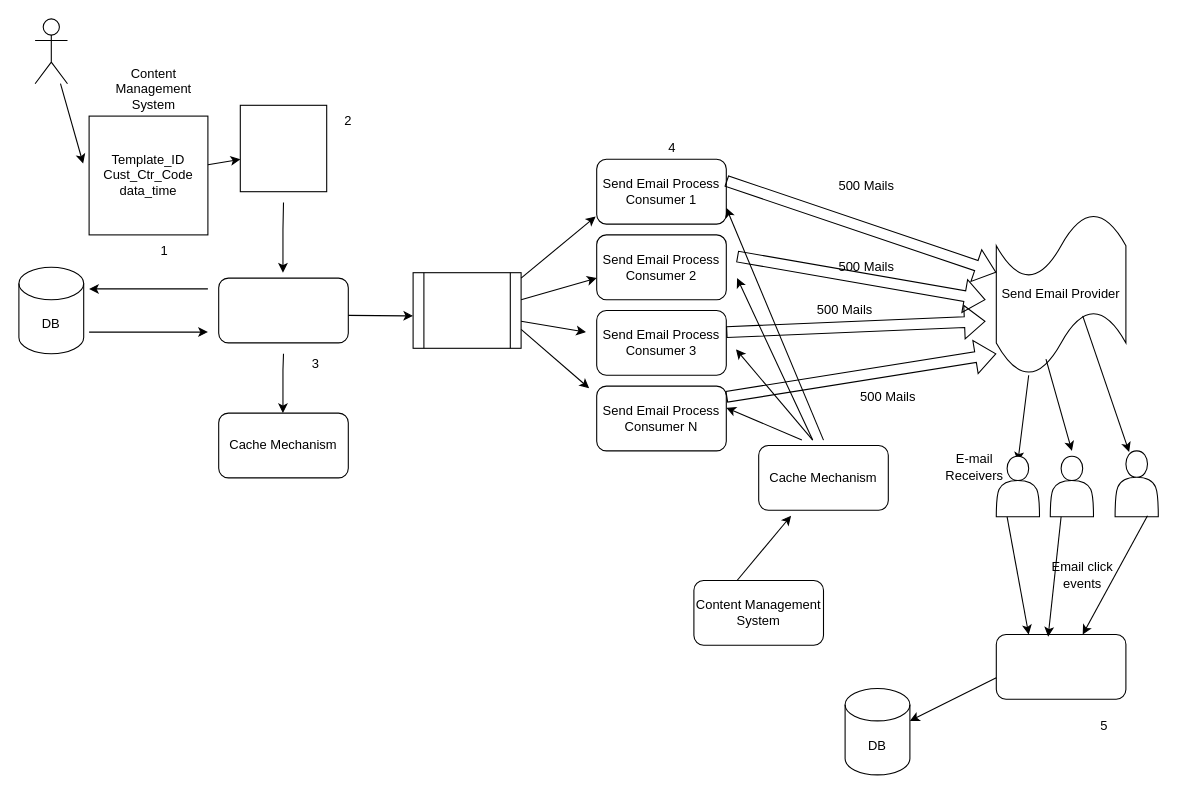
Image size: 1177x794. Some labels were removed from this diagram. The shapes that lost their labels are listed below. From the top down, each one's centre as x and y in pixels, then its label:
the point at 51,51: Actor
the point at 283,148: Schedular
the point at 283,310: DbPullProducer Service (Applying Pagination)
the point at 466,310: Message Queue
the point at 1060,666: Click Event Consumer
